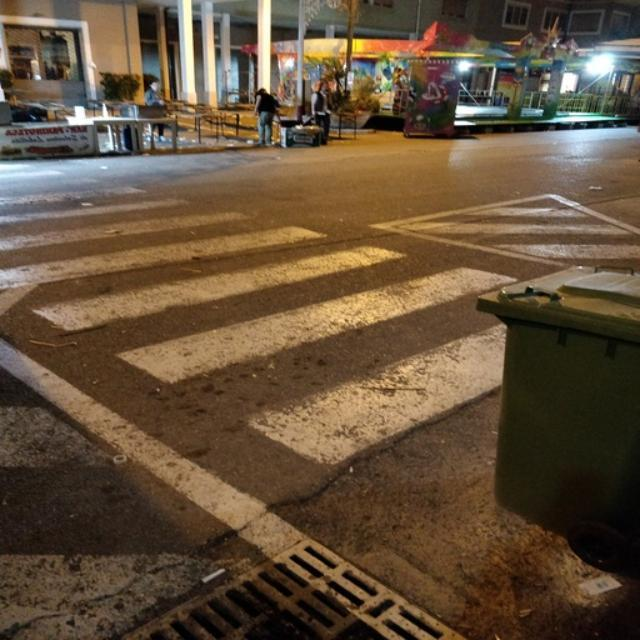sidewalk: (0, 181, 599, 473)
